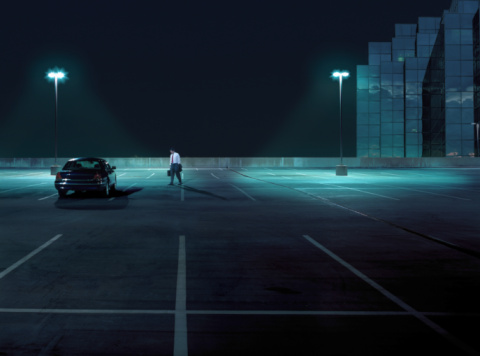car: (49, 154, 122, 206)
